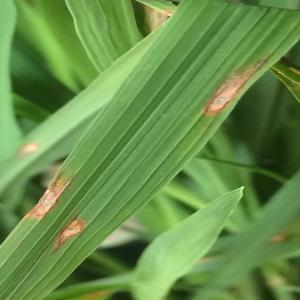1 RiceBlast: (191, 43, 270, 122), (13, 162, 81, 229), (33, 213, 98, 246)
